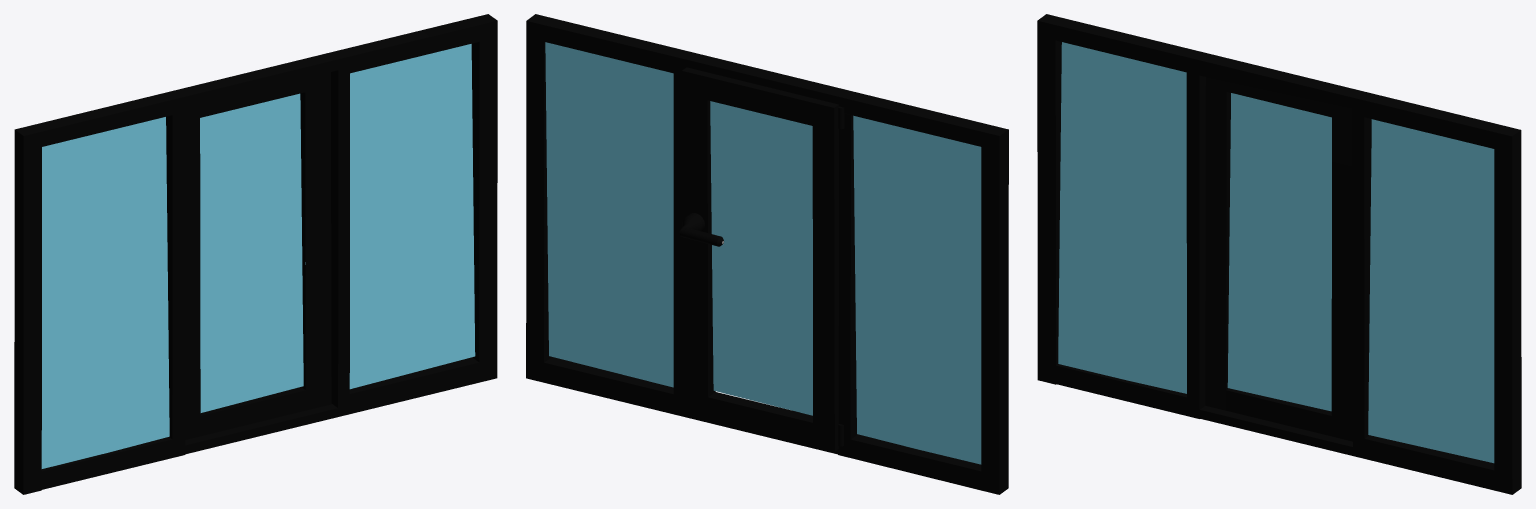
The model's file is window.fbx.
The picture shows the model from 3 angles, left to right: view 1: azimuth 30°, elevation 25°; view 2: azimuth 150°, elevation 25°; view 3: azimuth 330°, elevation 25°; orthographic projection.
Parts seen in each view (by area): view 1: Plane, Plane_4, Plane_3, Plane_2, Plane_1; view 2: Plane, Plane_4, Plane_3, Plane_2, Plane_1, Tube; view 3: Plane, Plane_4, Plane_3, Plane_2, Plane_1.
Part boxes in pixels (x1,y1,x2,y2): Plane: (14,14,497,494); Plane_4: (41,117,169,468); Plane_3: (349,44,475,389); Plane_2: (200,93,305,412); Plane_1: (185,72,331,439); Plane: (526,14,1008,494); Plane_4: (853,115,981,464); Plane_3: (545,42,673,387); Plane_2: (710,101,812,415); Plane_1: (682,67,838,451); Tube: (679,213,723,246); Plane: (1037,14,1521,494); Plane_4: (1058,42,1186,393); Plane_3: (1368,119,1494,463); Plane_2: (1227,93,1331,411); Plane_1: (1205,77,1352,441).
Size of the model in its own units: 740 by 536 by 77.83.
